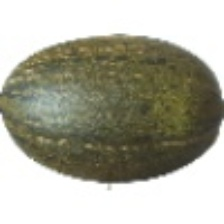honeydew: (43, 28, 191, 211)
